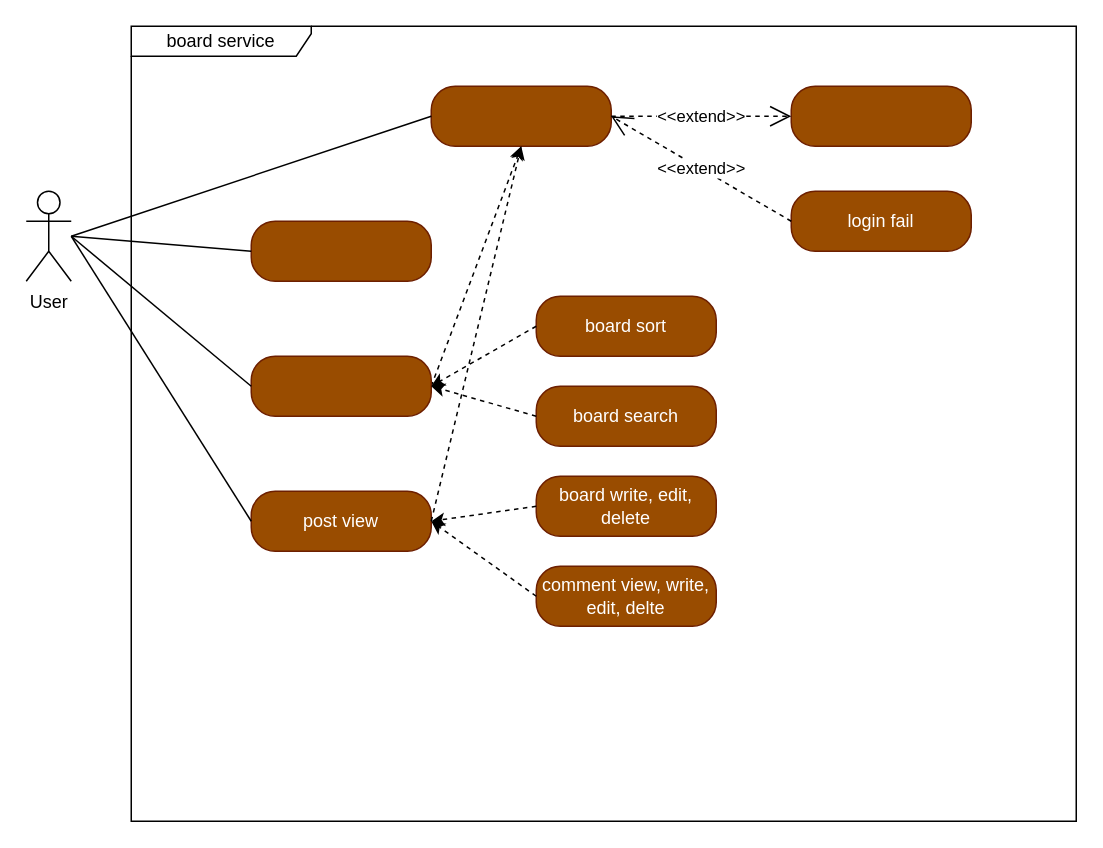
Some shapes in this 1103 by 848 pixel diagram are drawn without their labels. Each missing label, with the centre of its shape:
auth: (880,115)
board view: (340,385)
insert member: (340,250)
member login: (520,115)
